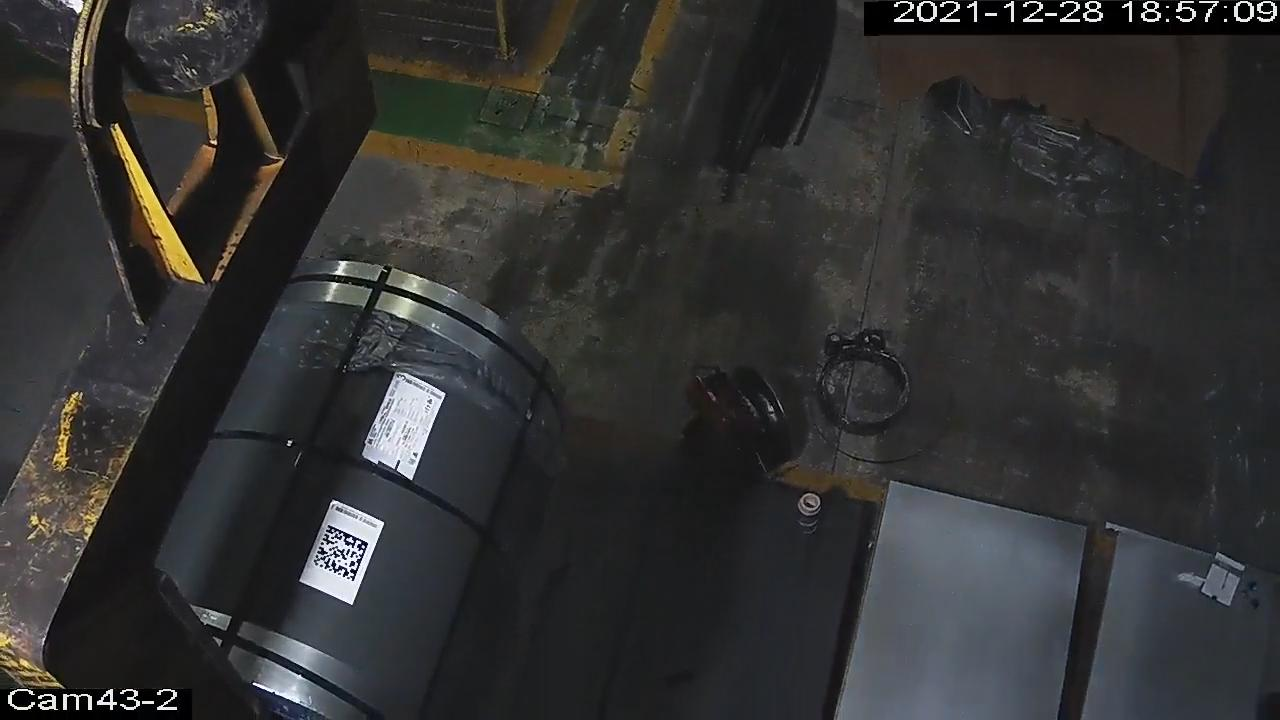data matrix: (312, 524, 371, 584)
